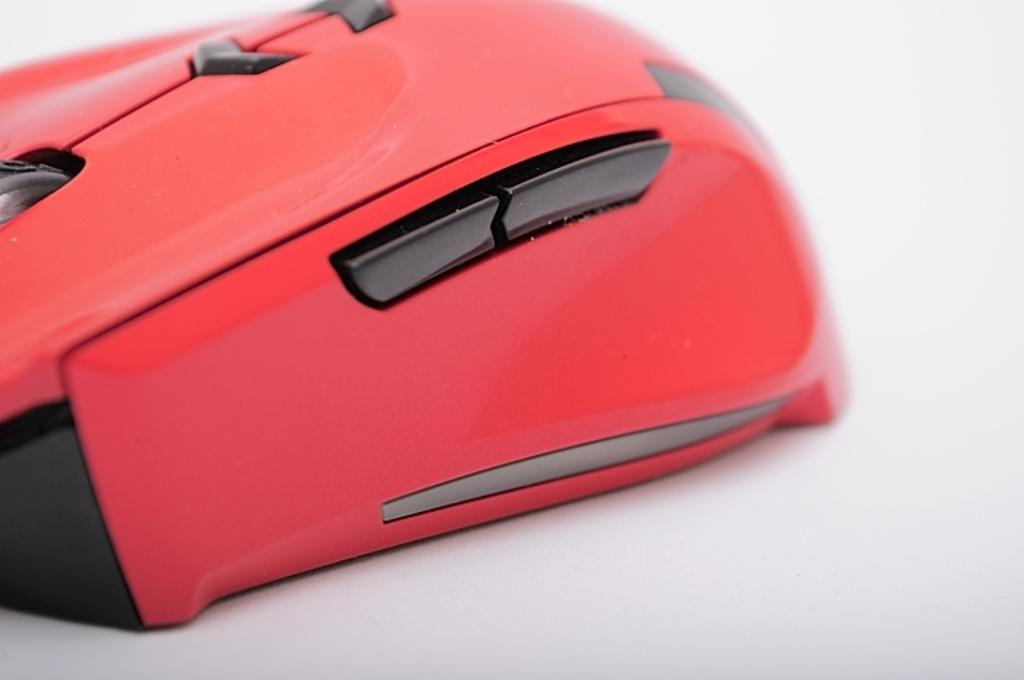Computer-mouse: (0, 0, 862, 632)
